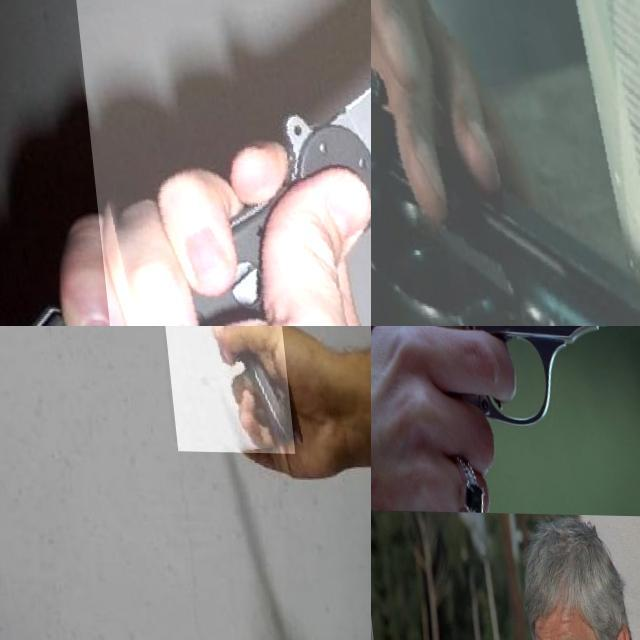-: (71, 0, 371, 326), (145, 326, 288, 482)
gun-knife-thesis - v11 Yolov5 augmented: (371, 0, 640, 326), (371, 326, 640, 512), (371, 326, 382, 344), (371, 326, 382, 342)
